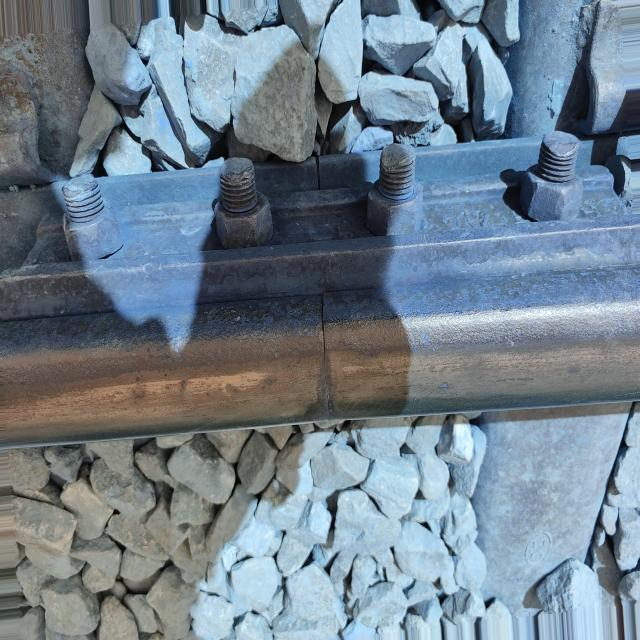Good Joint: (0, 137, 635, 324)
